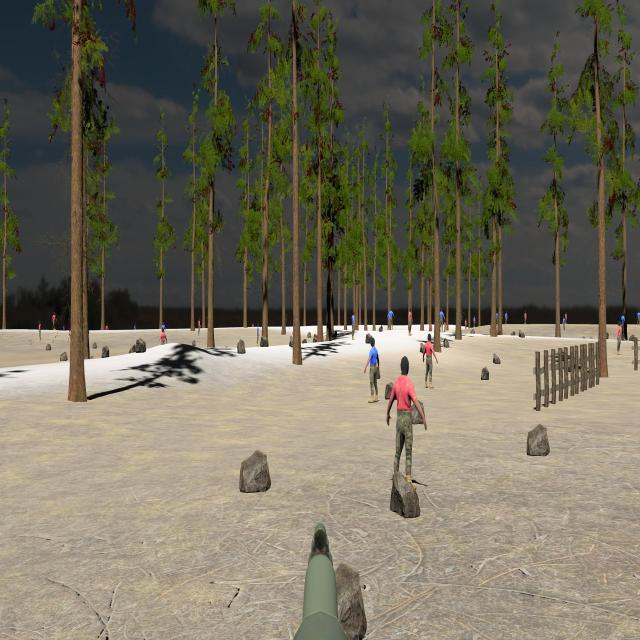Human: (386, 354, 427, 490), (365, 336, 380, 403), (423, 333, 437, 389)
